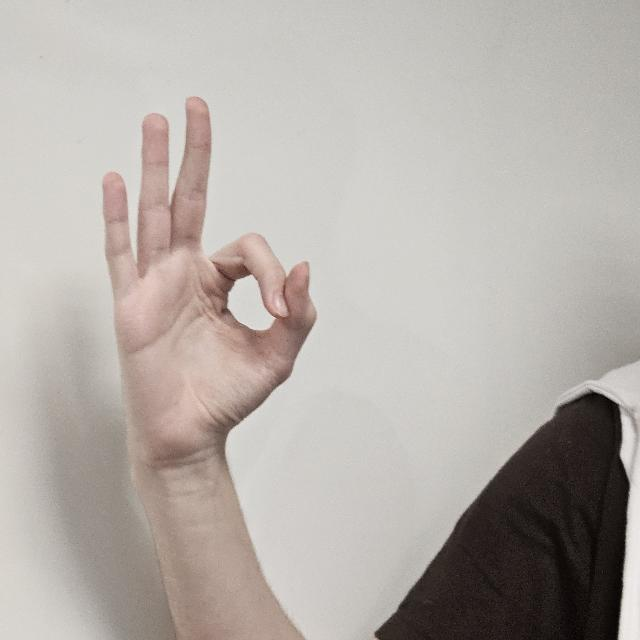Bolinha: (102, 94, 316, 452)
